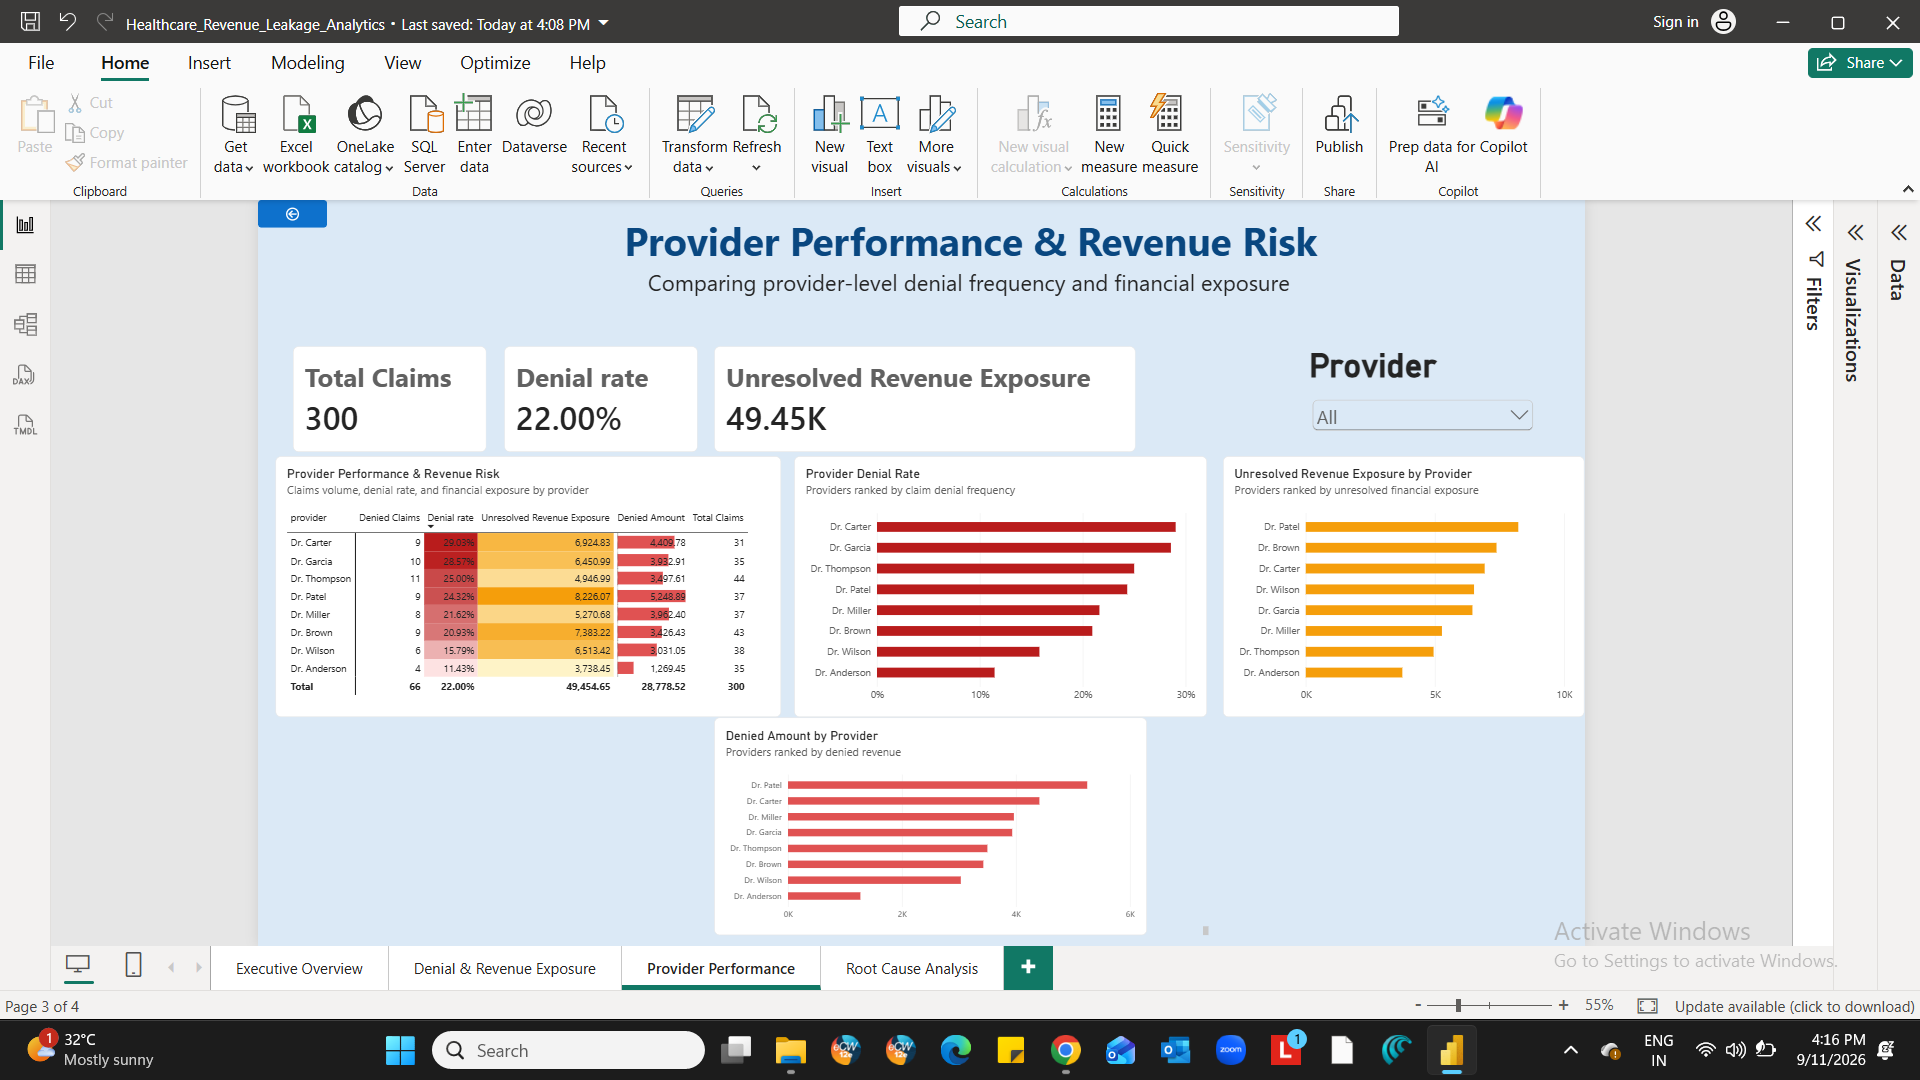

Layout of this report page (visuals, bound fields, positions):
{"tool":"powerbi","page":{"name":"Provider Performance","canvas":[1920,1080],"ordinal":2},"visuals":[{"type":"cardVisual","fields":{"Data":["claims.Total Claims"]},"box":[50.4,211.1,280.2,153.2],"z":0},{"type":"cardVisual","fields":{"Data":["claims.Denial rate"]},"box":[356.8,211.1,280.2,153.2],"z":1000},{"type":"cardVisual","fields":{"Data":["claims.Unresolved Revenue Exposure"]},"box":[661.3,211.1,610.9,153.2],"z":2000},{"type":"pivotTable","title":"Provider Performance & Revenue Risk","fields":{"Rows":["claims.provider"],"Values":["claims.Denied Claims","claims.Denial rate","claims.Unresolved Revenue Exposure","DateTable.Denied Amount","claims.Total Claims"]},"box":[26.2,371.7,732.3,377.4],"z":3000},{"type":"actionButton","box":[0,0,100,40],"z":4000},{"type":"clusteredBarChart","title":"Provider Denial Rate","fields":{"Category":["claims.provider"],"Y":["claims.Denial rate"]},"box":[777.1,371.7,597.8,377.4],"z":5000},{"type":"clusteredBarChart","title":"Unresolved Revenue Exposure by Provider","fields":{"Category":["claims.provider"],"Y":["claims.Potential Leakage"]},"box":[1397.3,371.7,523.1,377.4],"z":6000},{"type":"clusteredBarChart","title":"Denied Amount by Provider","fields":{"Category":["claims.provider"],"Y":["DateTable.Denied Amount"]},"box":[661.3,771.5,571.6,293.3],"z":7000},{"type":"slicer","title":"Provider","fields":{"Values":["claims.provider"]},"box":[1522.5,211.1,328.8,216.7],"z":8000},{"type":"textbox","box":[842.5,1051.7,532.4,13.1],"z":8002},{"type":"textbox","box":[530.5,20.5,1156.3,114],"z":8003},{"type":"textbox","box":[564.2,97.1,1122.7,95.3],"z":8004}]}

Visuals, with their boxes on the page's 1920x1080 design canvas (x1, y1, x2, y2). These are canvas units, not pixel positions in the 1920x1080 screenshot, which may show the page scaled, cropped or inside an application window:
cardVisual - claims.Total Claims: box=[50, 211, 331, 364]
cardVisual - claims.Denial rate: box=[357, 211, 637, 364]
cardVisual - claims.Unresolved Revenue Exposure: box=[661, 211, 1272, 364]
"Provider Performance & Revenue Risk" pivotTable: box=[26, 372, 758, 749]
actionButton: box=[0, 0, 100, 40]
"Provider Denial Rate" clusteredBarChart: box=[777, 372, 1375, 749]
"Unresolved Revenue Exposure by Provider" clusteredBarChart: box=[1397, 372, 1920, 749]
"Denied Amount by Provider" clusteredBarChart: box=[661, 772, 1233, 1065]
"Provider" slicer: box=[1522, 211, 1851, 428]
textbox: box=[842, 1052, 1375, 1065]
textbox: box=[530, 20, 1687, 134]
textbox: box=[564, 97, 1687, 192]
